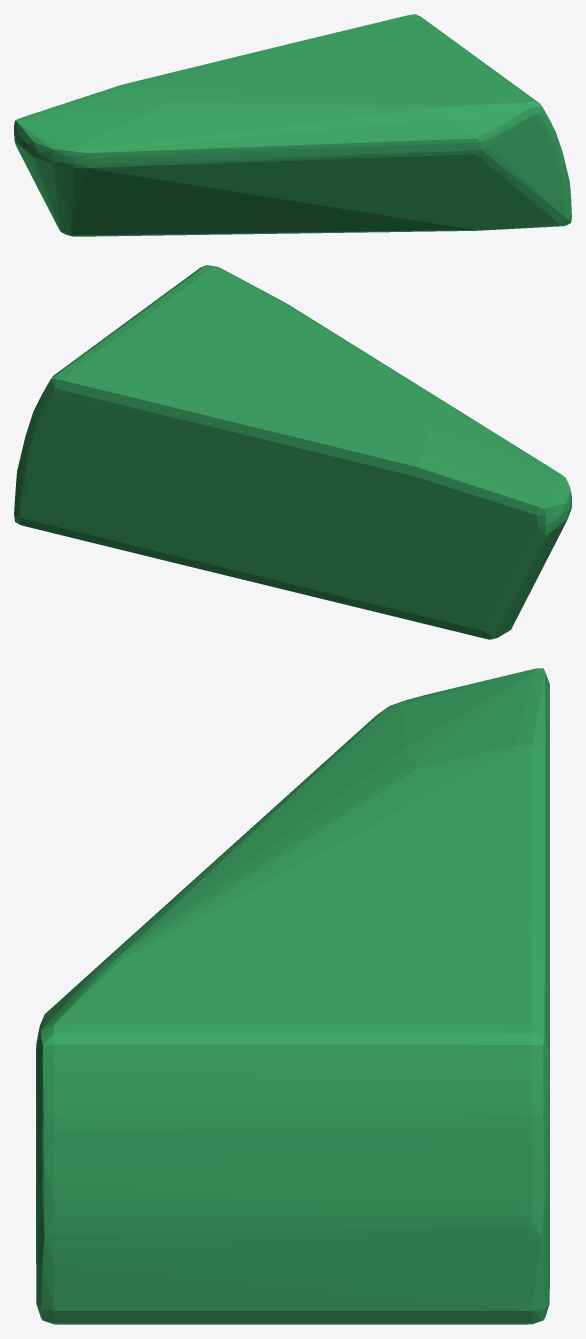
File: right_shoulder_roll_link_part_10.obj
3 views of the same model, one above another, from view 1: azimuth 30°, elevation 25°; view 2: azimuth 150°, elevation 25°; view 3: azimuth 270°, elevation 25° (orthographic). The views are drawn at different scales.
Size of the model in its own units: 0.088 by 0.0257 by 0.045.
